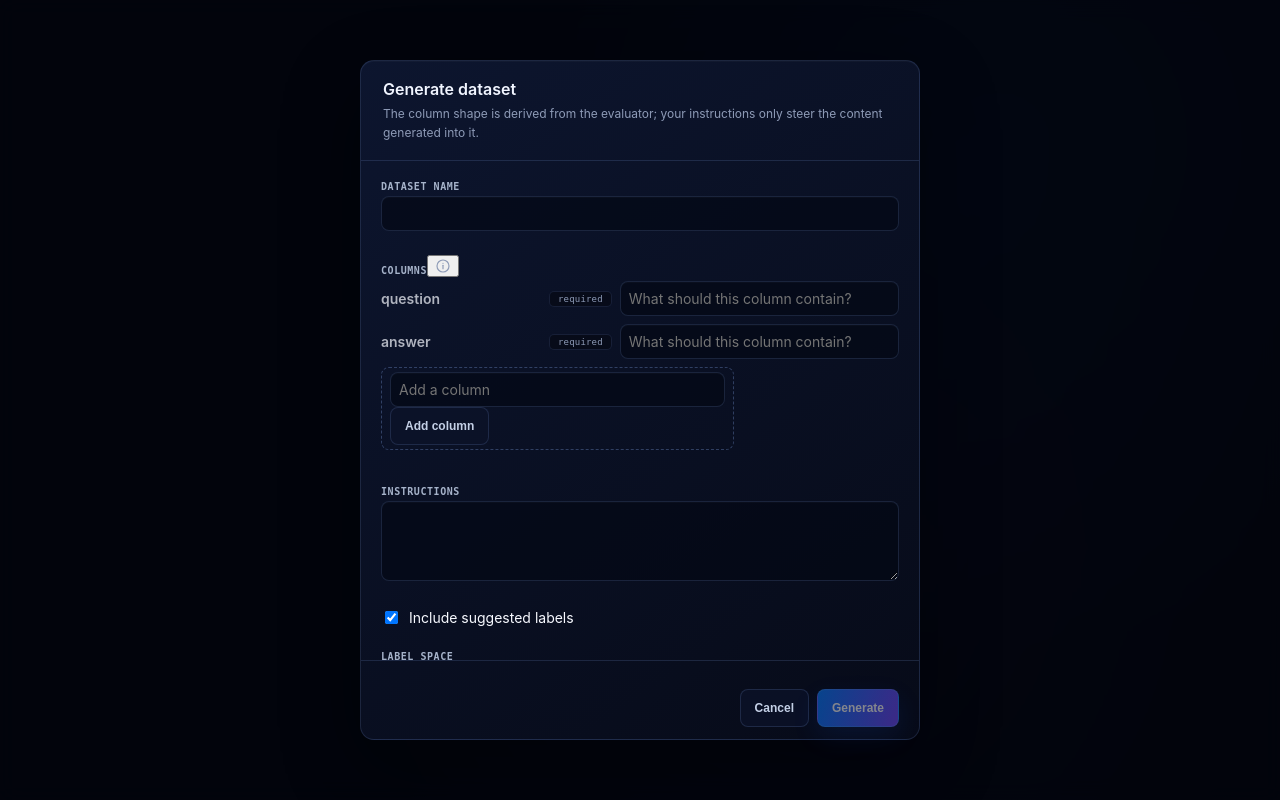
Test: DatasetFromEvaluator › renders the server error in the modal and keeps the form filled in
Type "Support QA" into the field labelled "Dataset name" at (640, 214), box [381,196,899,231]
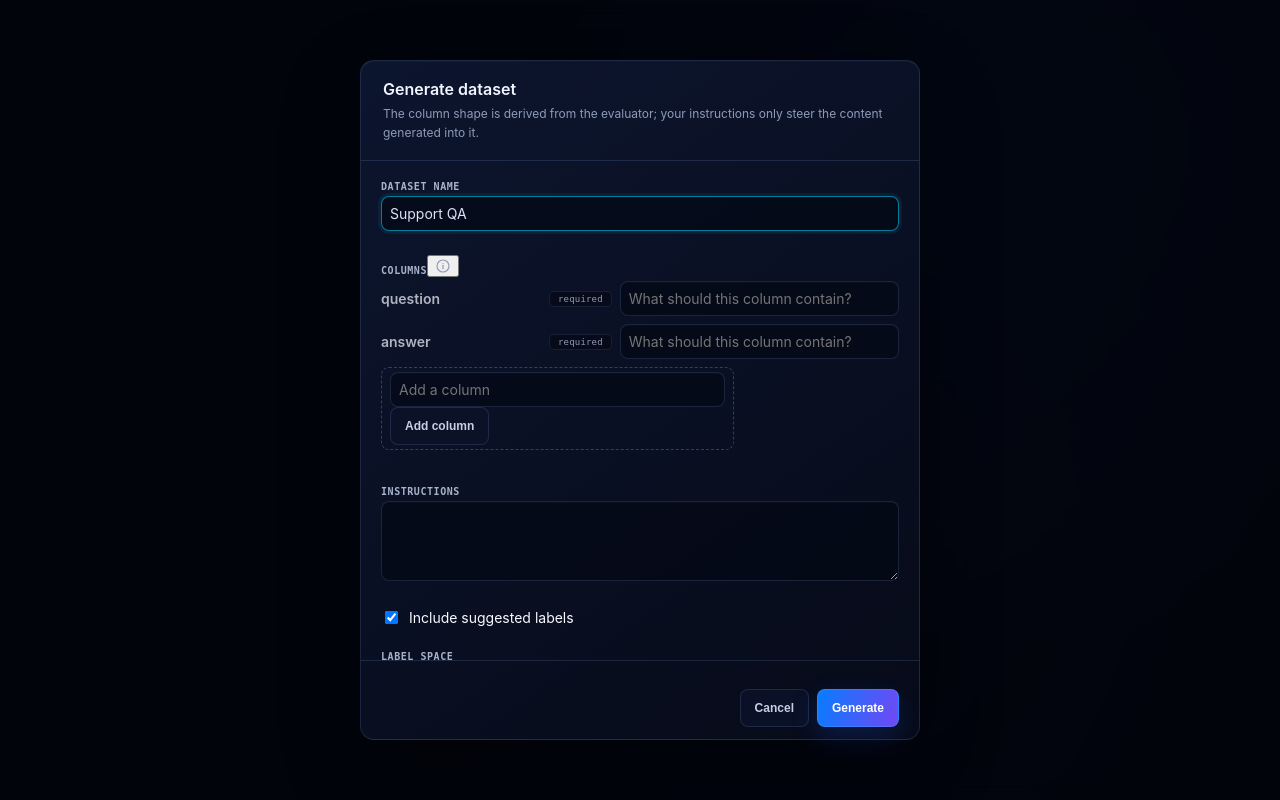
Click the button "Generate" at (858, 708), box [817,689,899,727]
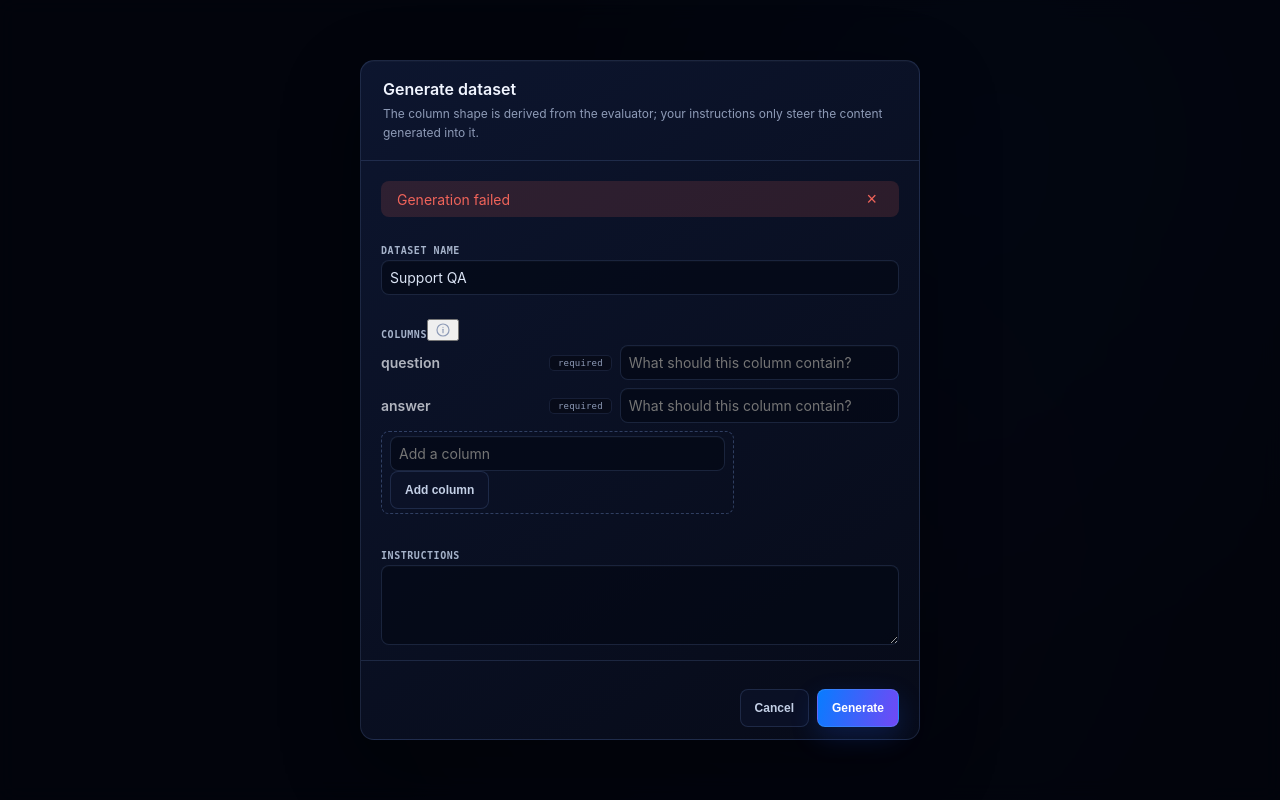
Result: the message shows "Generation failed" at [397,191,510,208]
